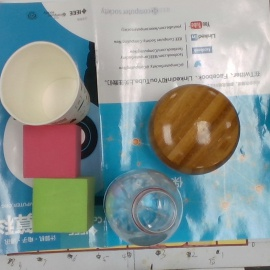bottle: (100, 170, 181, 244)
chess: (147, 83, 240, 175)
cup: (2, 41, 110, 126)
